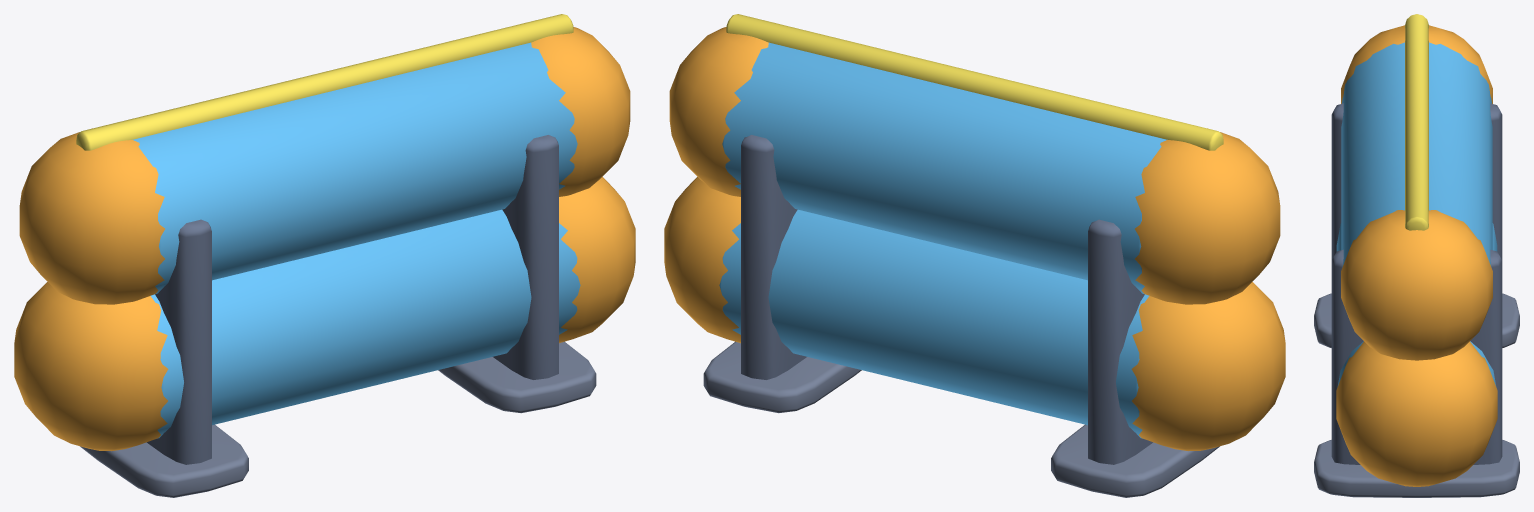
File: inflatable_barrier.glb
3 renders of one model, left to right at view 1: azimuth 30°, elevation 25°; view 2: azimuth 150°, elevation 25°; view 3: azimuth 270°, elevation 25°, orthographic. The views are drawn at different scales.
Parts seen in each view (by area): view 1: Mesh_Barrier; view 2: Mesh_Barrier; view 3: Mesh_Barrier.
Part boxes in pixels (box(x1,y1,x2,y2)): Mesh_Barrier: box(14, 14, 635, 497); Mesh_Barrier: box(664, 14, 1285, 497); Mesh_Barrier: box(1314, 14, 1519, 497).
Size of the model in its own units: 2.4 by 1.29 by 0.832.
